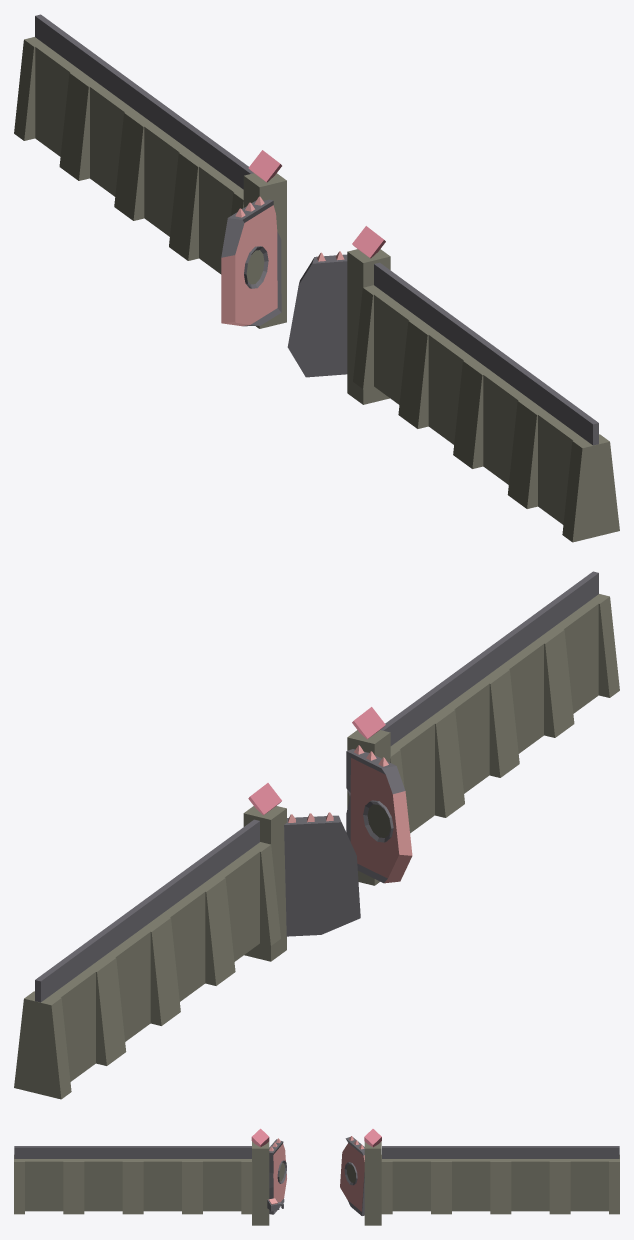
File: NewGateOpen.glb
3 renders of one model, top to bottom at view 1: azimuth 30°, elevation 25°; view 2: azimuth 150°, elevation 25°; view 3: azimuth 270°, elevation 25°, orthographic. The views are drawn at different scales.
Visible parts, largest first — view 1: PAREDE.001, PORTA.003, PORTA.002; view 2: PAREDE.001, PORTA.003, PORTA.002; view 3: PAREDE.001, PORTA.003, PORTA.002.
Boxes of the visible parts, left/top/right/bottom form: PAREDE.001: left=14, top=14, right=619, bottom=542; PORTA.003: left=221, top=196, right=281, bottom=326; PORTA.002: left=287, top=251, right=347, bottom=377; PAREDE.001: left=14, top=571, right=619, bottom=1099; PORTA.003: left=284, top=812, right=360, bottom=936; PORTA.002: left=346, top=745, right=412, bottom=883; PAREDE.001: left=14, top=1128, right=619, bottom=1225; PORTA.003: left=340, top=1136, right=364, bottom=1215; PORTA.002: left=269, top=1138, right=286, bottom=1214.
Bounding box in the file's own units: 5.34 × 8.62 × 51.1.
